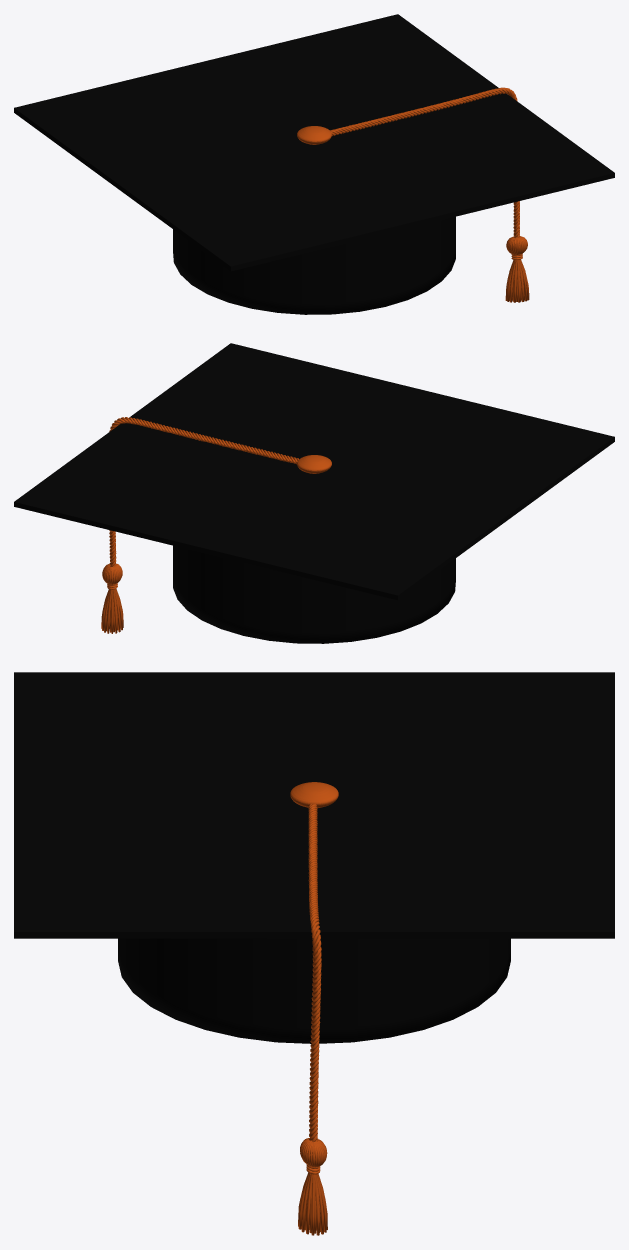
File: Grad Hat.obj
3 renders of one model, top to bottom at view 1: azimuth 30°, elevation 25°; view 2: azimuth 150°, elevation 25°; view 3: azimuth 270°, elevation 25°, orthographic. The views are drawn at different scales.
Parts seen in each view (by area): view 1: Plane, Cap_Cylinder_Cylinder, Rope_Circle.004, Tassels_TASSELS.002, Button_Sphere; view 2: Plane, Cap_Cylinder_Cylinder, Rope_Circle.004, Tassels_TASSELS.002, Button_Sphere; view 3: Plane, Cap_Cylinder_Cylinder, Rope_Circle.004, Tassels_TASSELS.002, Button_Sphere.
Boxes of the visible parts, left/top/right/bottom form: Plane: left=14, top=14, right=614, bottom=271; Cap_Cylinder_Cylinder: left=173, top=216, right=455, bottom=314; Rope_Circle.004: left=330, top=87, right=519, bottom=237; Tassels_TASSELS.002: left=505, top=236, right=529, bottom=302; Button_Sphere: left=297, top=126, right=331, bottom=144; Plane: left=14, top=343, right=614, bottom=600; Cap_Cylinder_Cylinder: left=173, top=545, right=455, bottom=643; Rope_Circle.004: left=109, top=417, right=298, bottom=566; Tassels_TASSELS.002: left=101, top=563, right=123, bottom=633; Button_Sphere: left=297, top=455, right=331, bottom=473; Plane: left=14, top=672, right=614, bottom=938; Cap_Cylinder_Cylinder: left=118, top=938, right=510, bottom=1043; Rope_Circle.004: left=308, top=804, right=321, bottom=1142; Tassels_TASSELS.002: left=298, top=1138, right=327, bottom=1235; Button_Sphere: left=290, top=782, right=338, bottom=808.
Bounding box in the file's own units: 1.72 × 0.9016 × 1.6.
